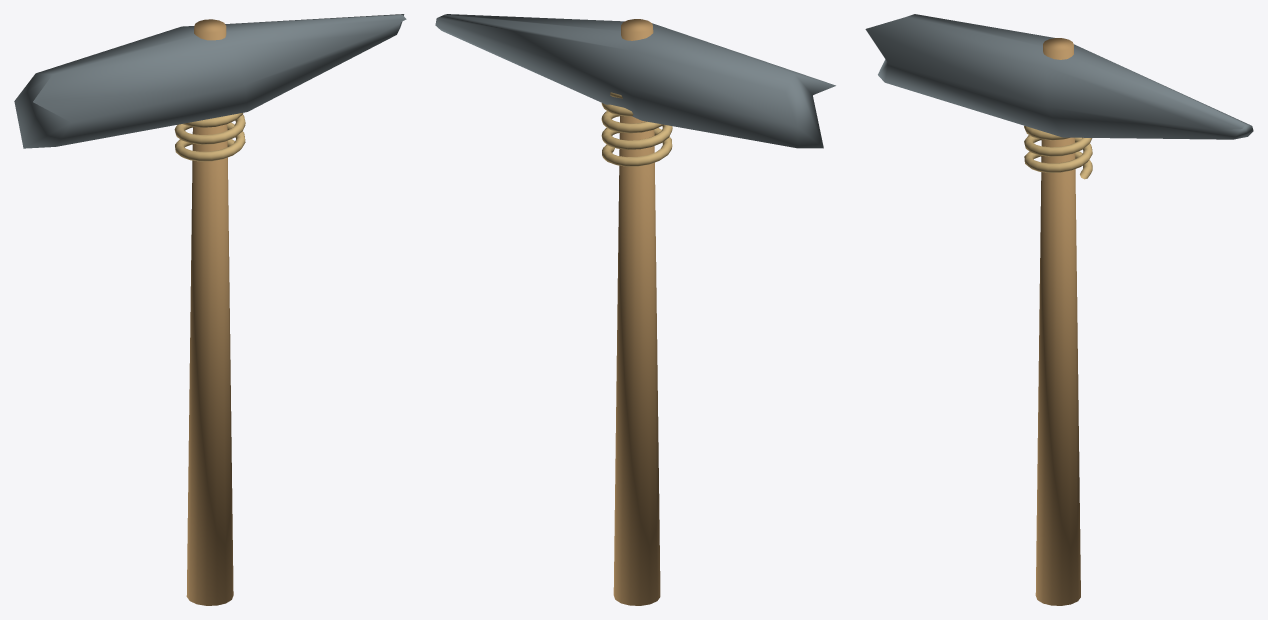
Rendered from pickaxe.glb.
3 renders of one model, left to right at view 1: azimuth 30°, elevation 25°; view 2: azimuth 150°, elevation 25°; view 3: azimuth 330°, elevation 25°, orthographic. The views are drawn at different scales.
Visible parts, largest first — view 1: pickaxe_head, pickaxe_haft, pickaxe_lashing; view 2: pickaxe_head, pickaxe_haft, pickaxe_lashing; view 3: pickaxe_head, pickaxe_haft, pickaxe_lashing.
Boxes of the visible parts, x1,y1,x2,y2 form: pickaxe_head: (14,14,406,148); pickaxe_haft: (186,19,233,605); pickaxe_lashing: (174,113,245,161); pickaxe_head: (435,14,835,148); pickaxe_haft: (613,19,660,605); pickaxe_lashing: (601,92,672,166); pickaxe_head: (865,14,1253,139); pickaxe_haft: (1035,38,1080,605); pickaxe_lashing: (1024,126,1092,179).
Bounding box in the file's own units: 0.7222 × 1.02 × 0.1407.
